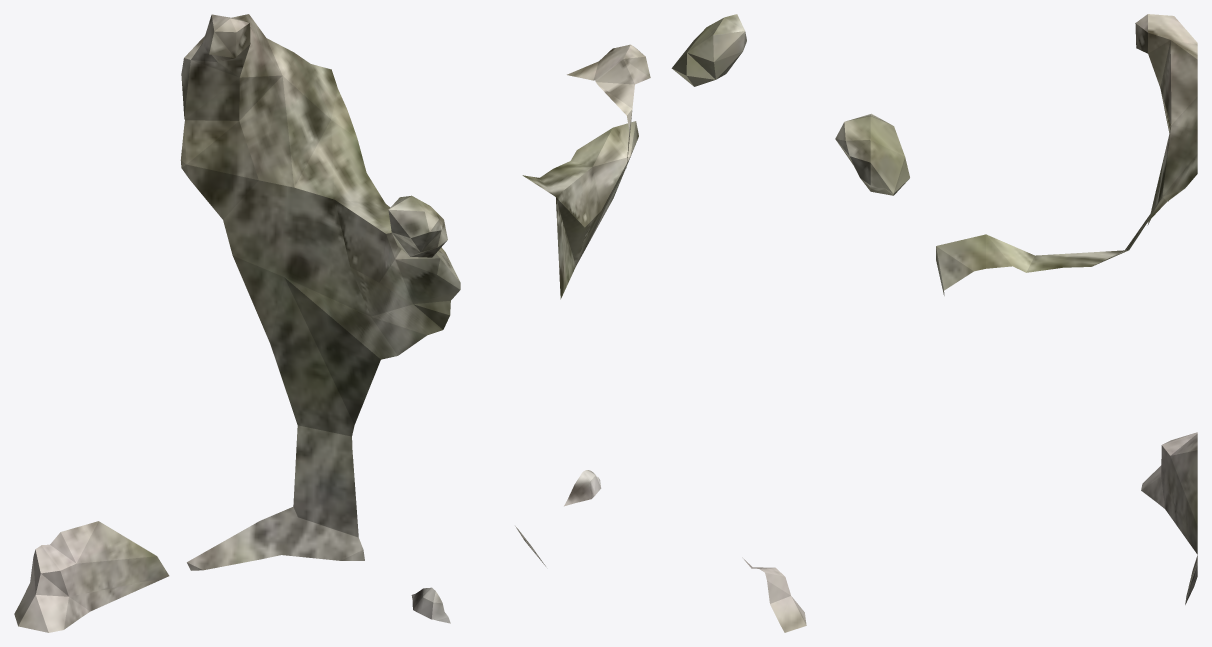
3 views of the same model, side by side, from view 1: azimuth 30°, elevation 25°; view 2: azimuth 150°, elevation 25°; view 3: azimuth 270°, elevation 25° (orthographic). The views are drawn at different scales.
Size of the model in its own units: 2.49 by 4.12 by 2.43.
Materials: 1 (1 with a texture image).
